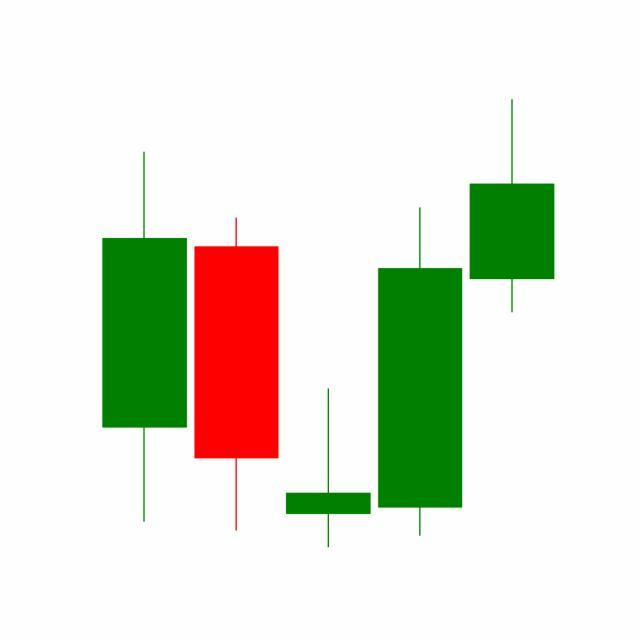Morning Doji Star: (190, 203, 467, 548)
